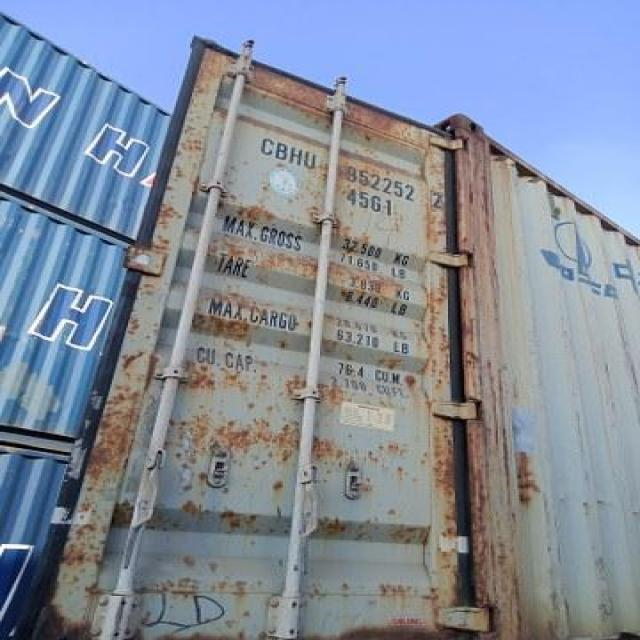container_number_h: (251, 125, 466, 231)
